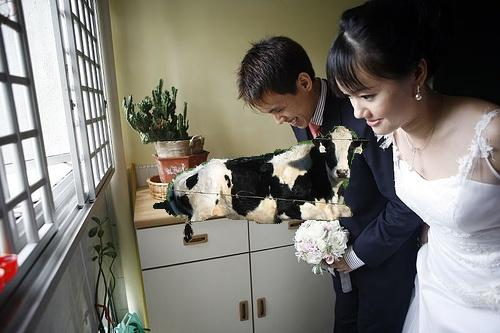tampered: (154, 126, 369, 242)
